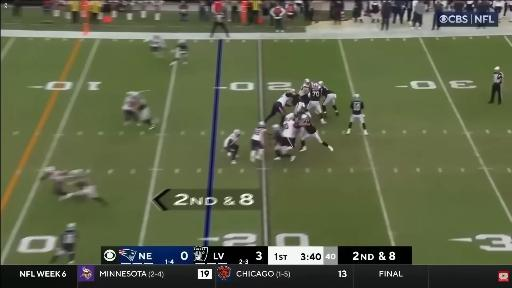Helmet: (66, 223, 76, 230), (285, 113, 294, 120), (304, 76, 310, 86), (312, 83, 319, 89), (272, 125, 280, 130), (258, 122, 265, 127), (234, 130, 240, 135), (301, 115, 307, 120), (354, 94, 359, 99), (318, 81, 323, 86), (178, 40, 185, 43)
Jersey: (61, 230, 77, 251), (300, 114, 316, 134), (75, 185, 98, 198), (282, 119, 297, 138), (122, 96, 139, 111), (47, 171, 68, 182), (251, 128, 266, 142), (350, 100, 364, 114), (224, 134, 238, 147), (309, 87, 321, 101), (277, 94, 291, 106), (295, 102, 306, 114), (299, 84, 310, 96), (273, 129, 282, 143), (150, 39, 165, 47), (177, 43, 188, 53), (322, 87, 334, 96)
Player: (59, 170, 107, 205), (298, 111, 333, 151), (123, 92, 155, 129), (50, 223, 77, 264), (275, 114, 297, 161), (264, 90, 294, 123), (346, 94, 368, 135), (41, 167, 69, 195), (307, 83, 326, 123), (319, 81, 338, 117), (137, 93, 155, 129), (250, 122, 266, 162), (223, 130, 240, 163), (122, 92, 138, 125), (145, 35, 166, 57), (170, 40, 188, 65), (272, 125, 282, 159), (299, 79, 311, 105), (295, 102, 311, 117)
